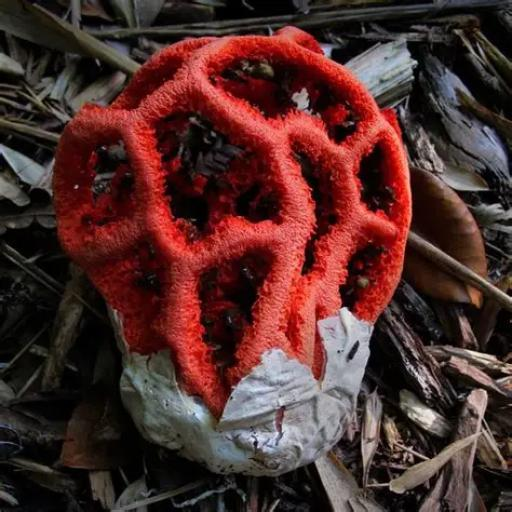mushroom: (8, 0, 501, 512)
